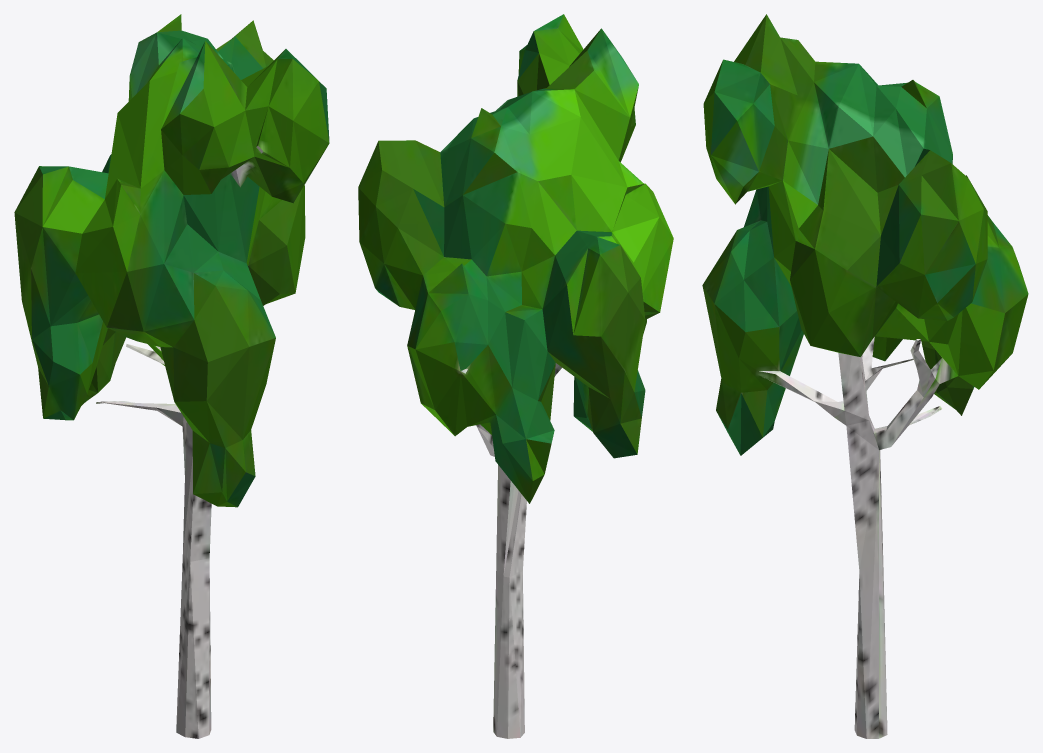
Rendered from tree_05.glb.
3 views of the same model, side by side, from view 1: azimuth 30°, elevation 25°; view 2: azimuth 150°, elevation 25°; view 3: azimuth 270°, elevation 25° (orthographic). The views are drawn at different scales.
Parts seen in each view (by area): view 1: _5_tree__5_tree_0; view 2: _5_tree__5_tree_0; view 3: _5_tree__5_tree_0.
Boxes of the visible parts, x1,y1,x2,y2 form: _5_tree__5_tree_0: (14, 14, 329, 738); _5_tree__5_tree_0: (358, 14, 673, 738); _5_tree__5_tree_0: (702, 14, 1028, 738).
Size of the model in its own units: 4.33 by 11 by 4.66.
Materials: 1 (1 with a texture image).
